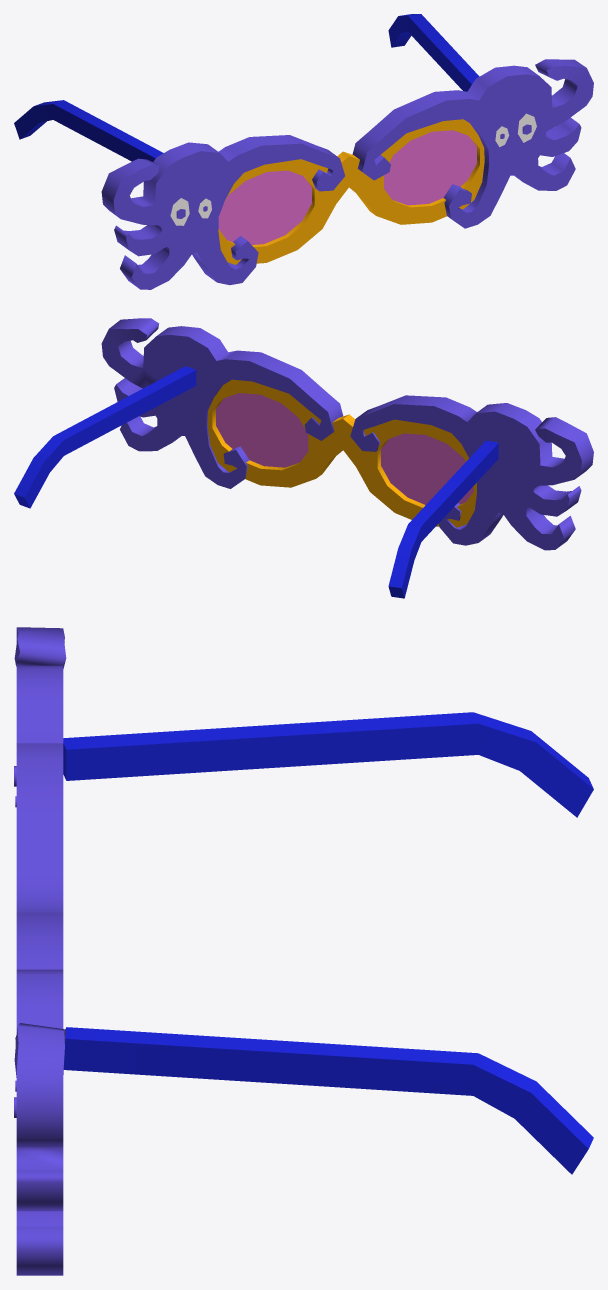
File: Glasses_octopuses.fbx
3 renders of one model, top to bottom at view 1: azimuth 30°, elevation 25°; view 2: azimuth 150°, elevation 25°; view 3: azimuth 270°, elevation 25°, orthographic. The views are drawn at different scales.
Parts seen in each view (by area): view 1: Glasses_octopuses.c, Glasses_stick_23, Glasses_stick_24; view 2: Glasses_octopuses.c, Glasses_stick_24, Glasses_stick_23; view 3: Glasses_octopuses.c, Glasses_stick_24, Glasses_stick_23.
Boxes of the visible parts, x1,y1,x2,y2 form: Glasses_octopuses.c: [101, 59, 593, 289]; Glasses_stick_23: [14, 100, 163, 161]; Glasses_stick_24: [388, 14, 479, 91]; Glasses_octopuses.c: [101, 318, 593, 550]; Glasses_stick_24: [14, 366, 196, 508]; Glasses_stick_23: [388, 440, 498, 598]; Glasses_octopuses.c: [14, 627, 66, 1275]; Glasses_stick_24: [63, 1027, 593, 1174]; Glasses_stick_23: [63, 712, 593, 817].
Bounding box in the file's own units: 0.876 × 0.2476 × 0.4668.
